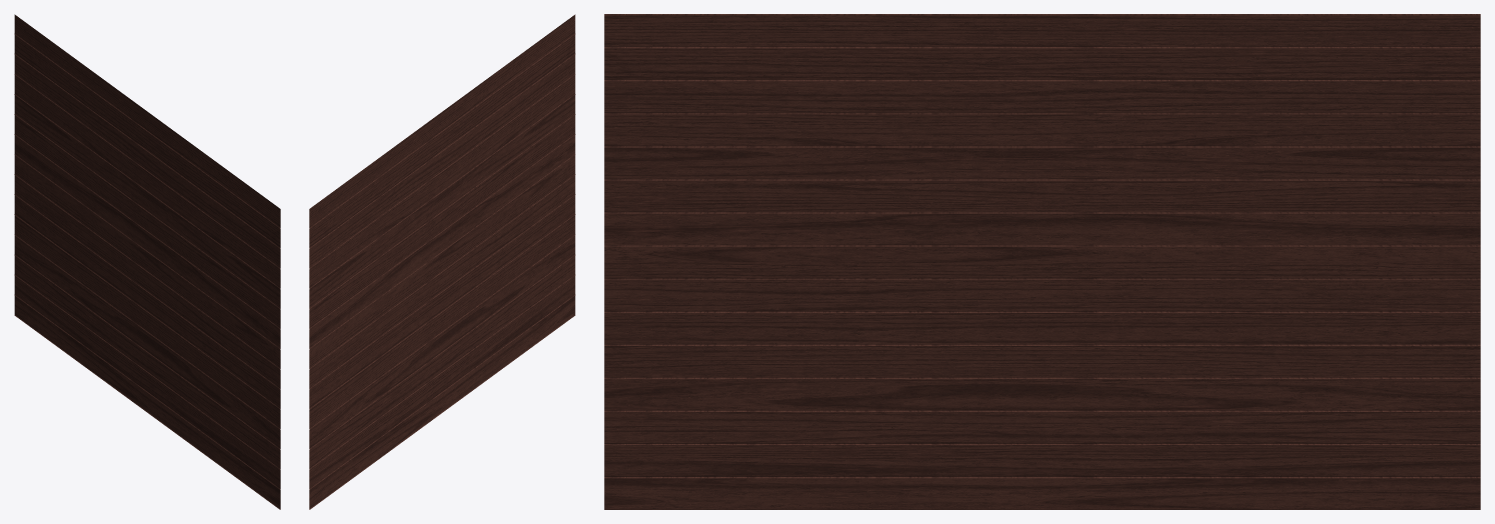
Rendered from Wall_A.FBX.
The picture shows the model from 3 angles, left to right: view 1: azimuth 30°, elevation 25°; view 2: azimuth 150°, elevation 25°; view 3: azimuth 270°, elevation 25°; orthographic projection. The views are drawn at different scales.
Parts seen in each view (by area): view 1: Wall_A; view 2: Wall_A; view 3: Wall_A.
Boxes of the visible parts, x1,y1,x2,y2 form: Wall_A: (14, 14, 280, 509); Wall_A: (309, 14, 575, 509); Wall_A: (604, 14, 1480, 509).
Bounding box in the file's own units: 0.1969 × 110 × 176.
1 material, 1 textured.
